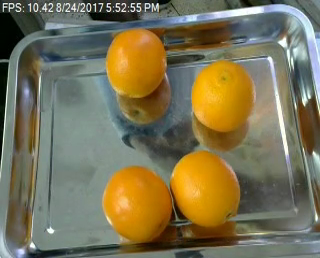Orange: (170, 149, 241, 228), (102, 165, 173, 243), (190, 60, 256, 133), (105, 28, 167, 99)
